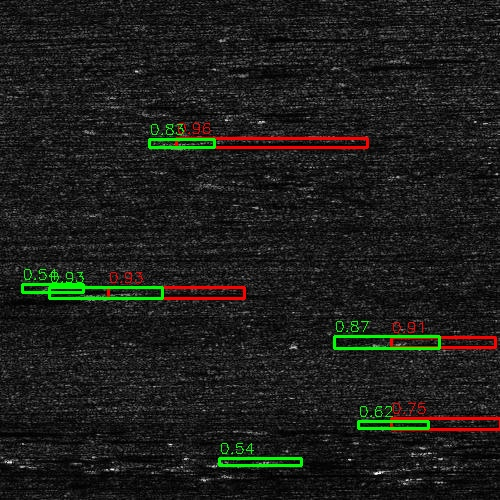rock: (141, 136, 214, 147), (353, 337, 426, 344), (92, 290, 155, 297), (228, 426, 291, 431), (0, 295, 4, 302)
shadow: (178, 136, 360, 147), (124, 290, 268, 297), (390, 337, 500, 344), (0, 428, 92, 435), (260, 426, 376, 431), (0, 295, 22, 302)
